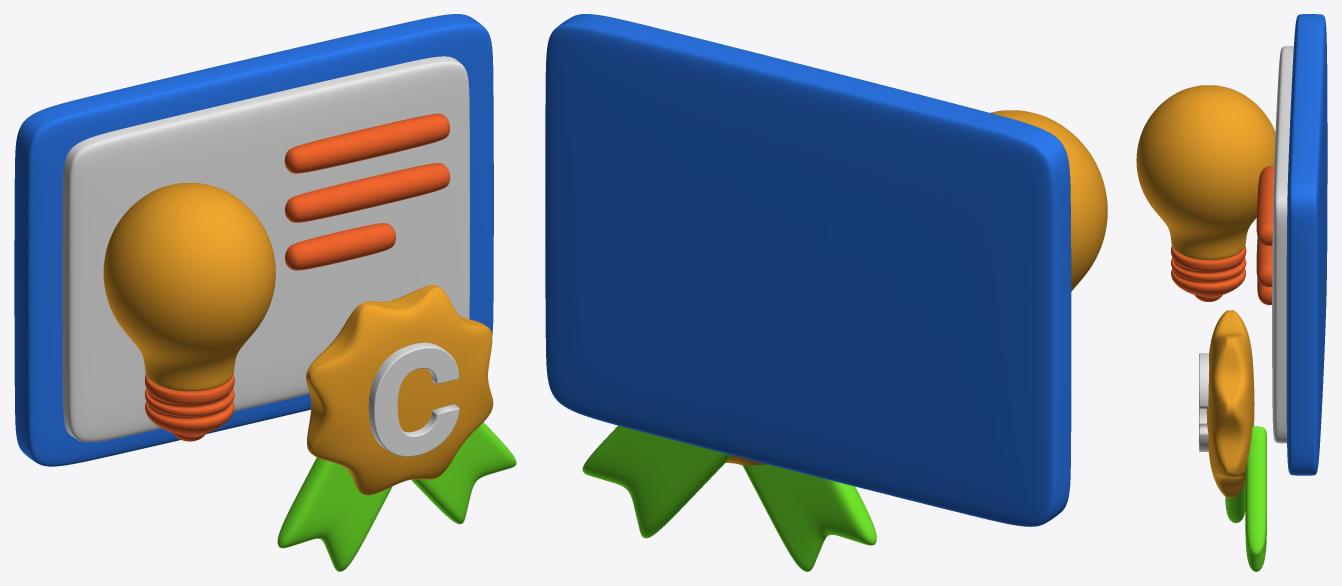
The model's file is intellectual-property-rights-3d-animated-icon-1564208076713.glb.
3 renders of one model, left to right at view 1: azimuth 30°, elevation 25°; view 2: azimuth 150°, elevation 25°; view 3: azimuth 270°, elevation 25°, orthographic. The views are drawn at different scales.
Visible parts, largest first — view 1: paper, paper border, lamp, badge, data, cloth1, c, cloth2; view 2: paper border, cloth2, cloth1, lamp; view 3: lamp, paper border, badge, paper, cloth2, data, c, cloth1.
Part boxes in pixels (x1,y1,x2,y2): paper: (62,56,469,442); paper border: (14,14,493,466); lamp: (103,183,275,441); badge: (306,285,493,495); data: (284,113,450,270); cloth1: (277,457,392,571); c: (368,342,459,456); cloth2: (411,422,516,524); paper border: (545,14,1071,526); cloth2: (582,425,731,538); cloth1: (742,464,876,571); lamp: (990,110,1107,291); lamp: (1136,85,1275,301); paper border: (1286,14,1327,475); badge: (1206,310,1254,498); paper: (1272,46,1293,443); cloth2: (1245,426,1266,571); data: (1256,166,1273,305); c: (1199,353,1209,451); cloth1: (1225,483,1245,522).
Bounding box in the file's own units: 2.88 × 2.89 × 1.23.
